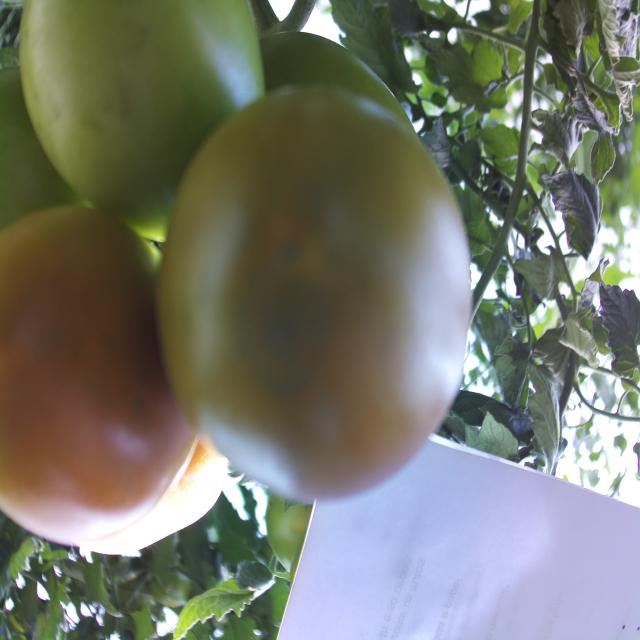sari: (134, 70, 521, 543)
